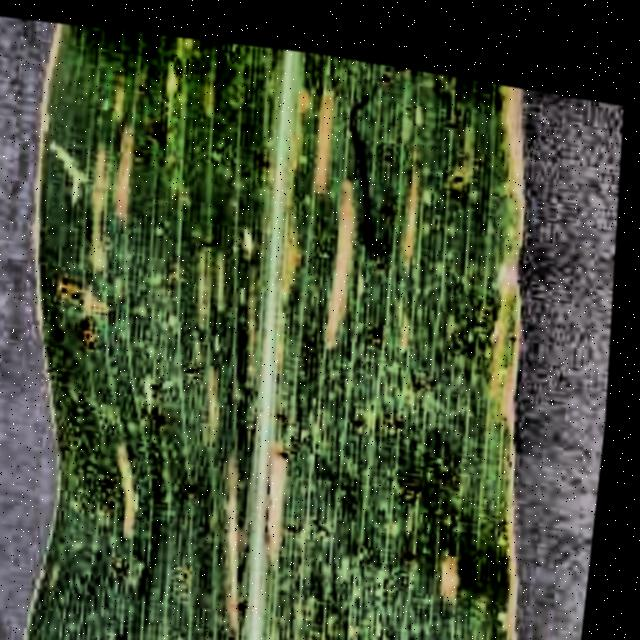gray_spot: (0, 9, 597, 640)
